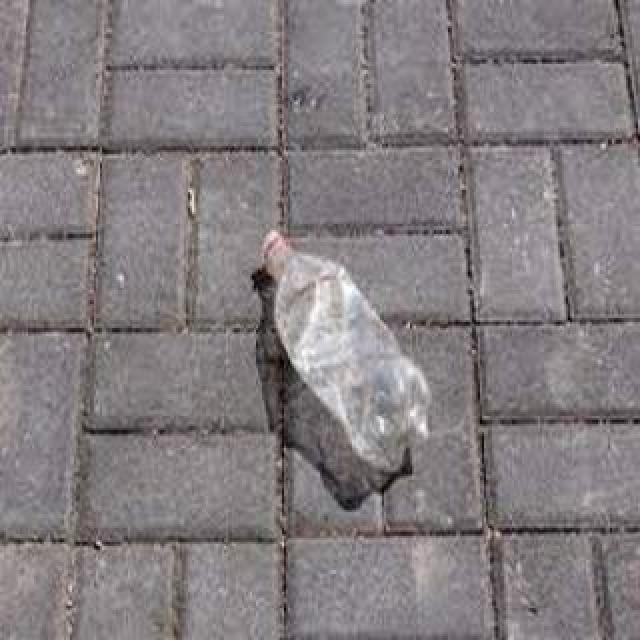Pet_Bottle: (255, 221, 439, 479)
